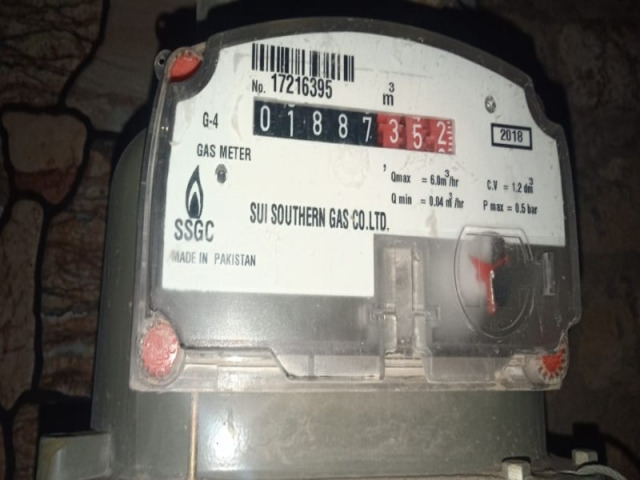ssgc: (245, 92, 457, 159)
